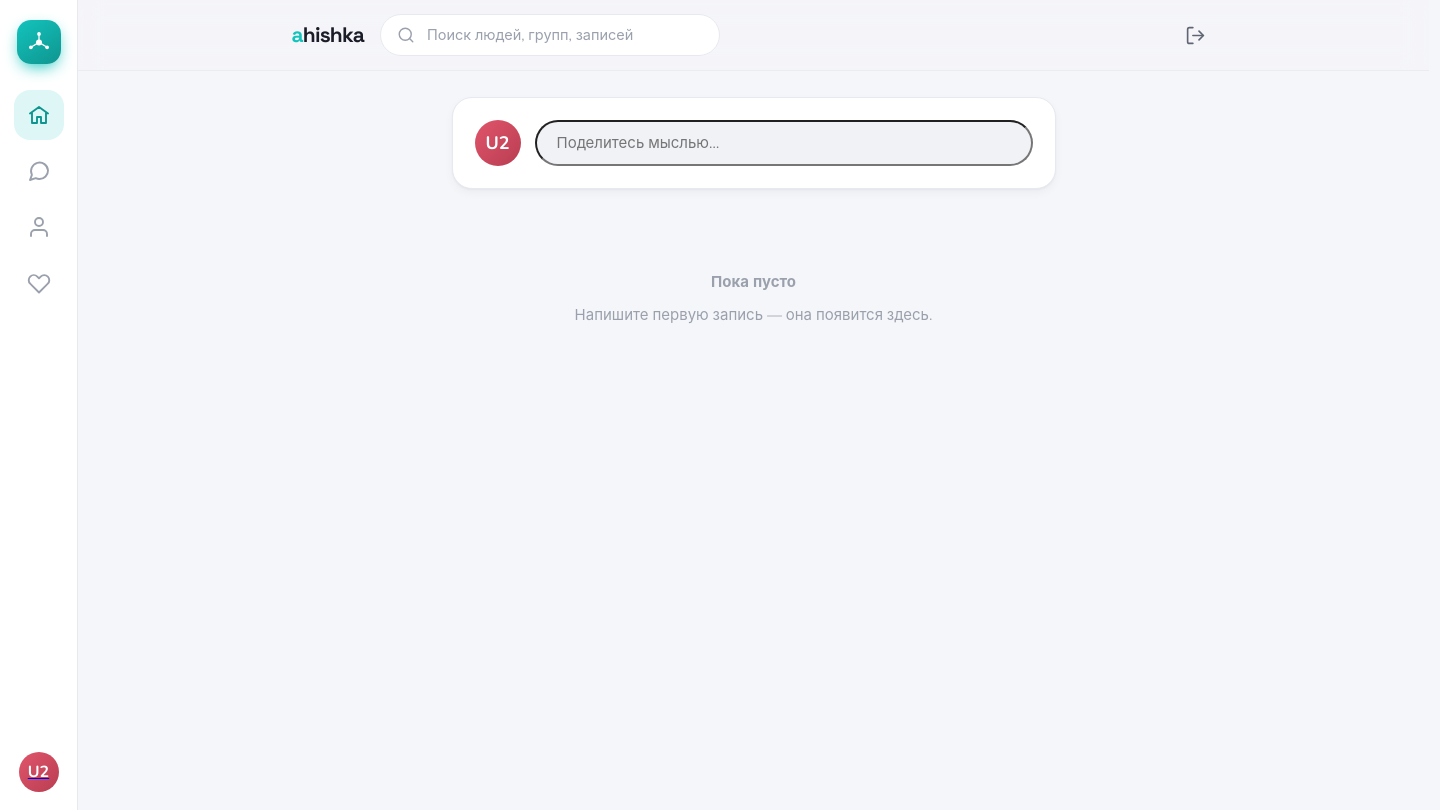
Test: провал POST /auth/logout не роняет приложение необработанным отклонением
The image size is (1440, 810).
Check: the field with placeholder "Поделитесь мыслью…" is shown, box [534,120,1032,166]
Click the button named "выйти". click: x=1196, y=35
box: [1176,15,1216,55]
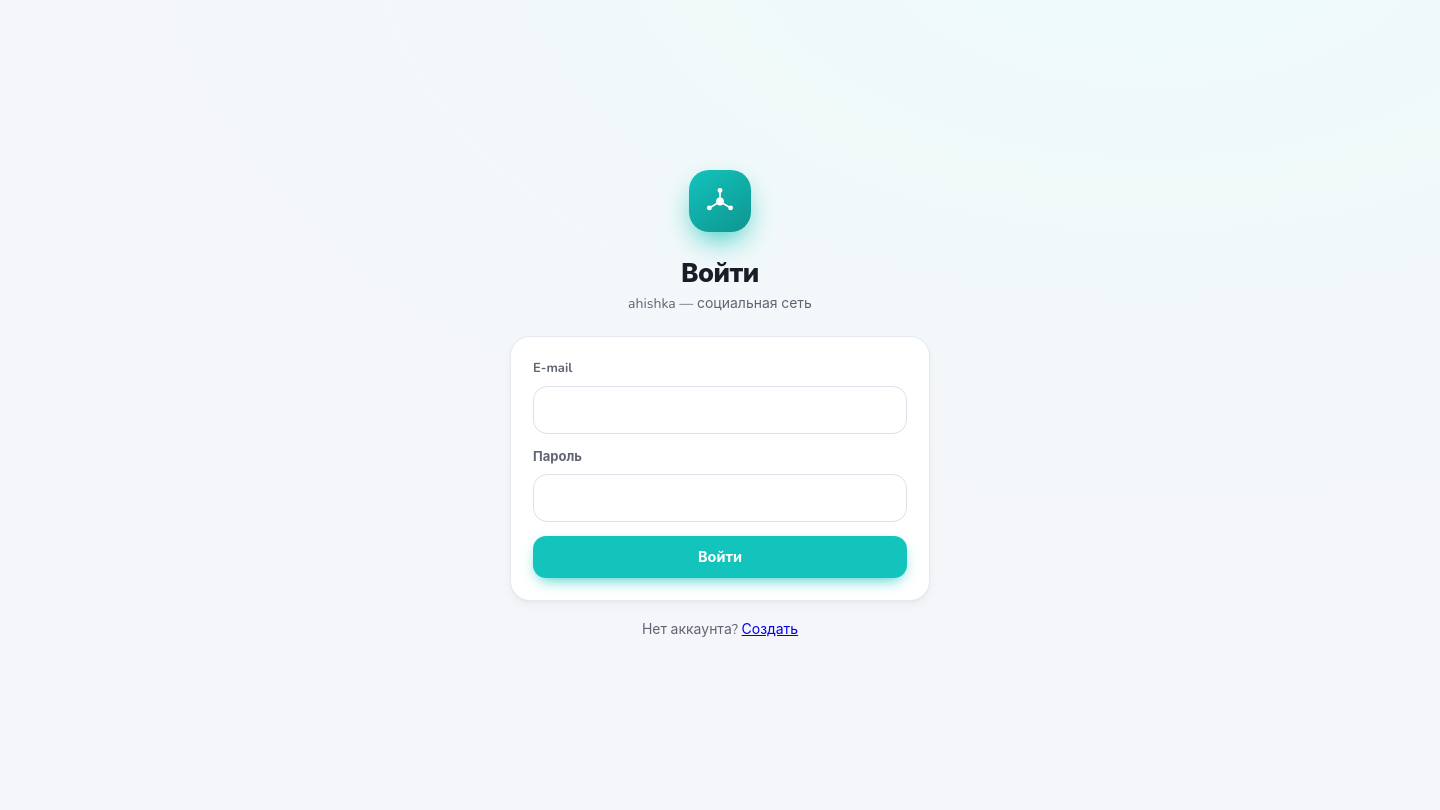
Check: the heading "Войти" is shown, box [681,256,759,291]
